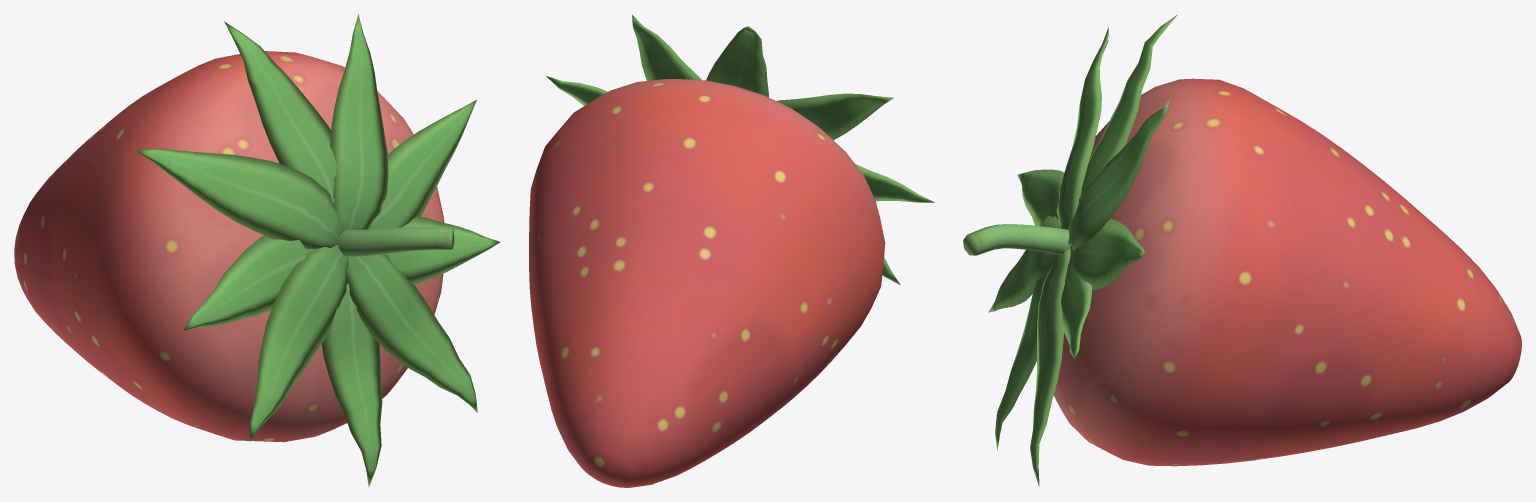
File: strawberry.glb
The picture shows the model from 3 angles, left to right: view 1: azimuth 30°, elevation 25°; view 2: azimuth 150°, elevation 25°; view 3: azimuth 270°, elevation 25°; orthographic projection. The views are drawn at different scales.
Visible parts, largest first — view 1: strawberry_body; view 2: strawberry_body; view 3: strawberry_body.
Boxes of the visible parts, left/top/right/bottom form: strawberry_body: left=14, top=14, right=500, bottom=487; strawberry_body: left=529, top=14, right=934, bottom=487; strawberry_body: left=963, top=14, right=1521, bottom=486.
Size of the model in its own units: 0.0363 by 0.0399 by 0.0489.
1 material, 1 textured.
